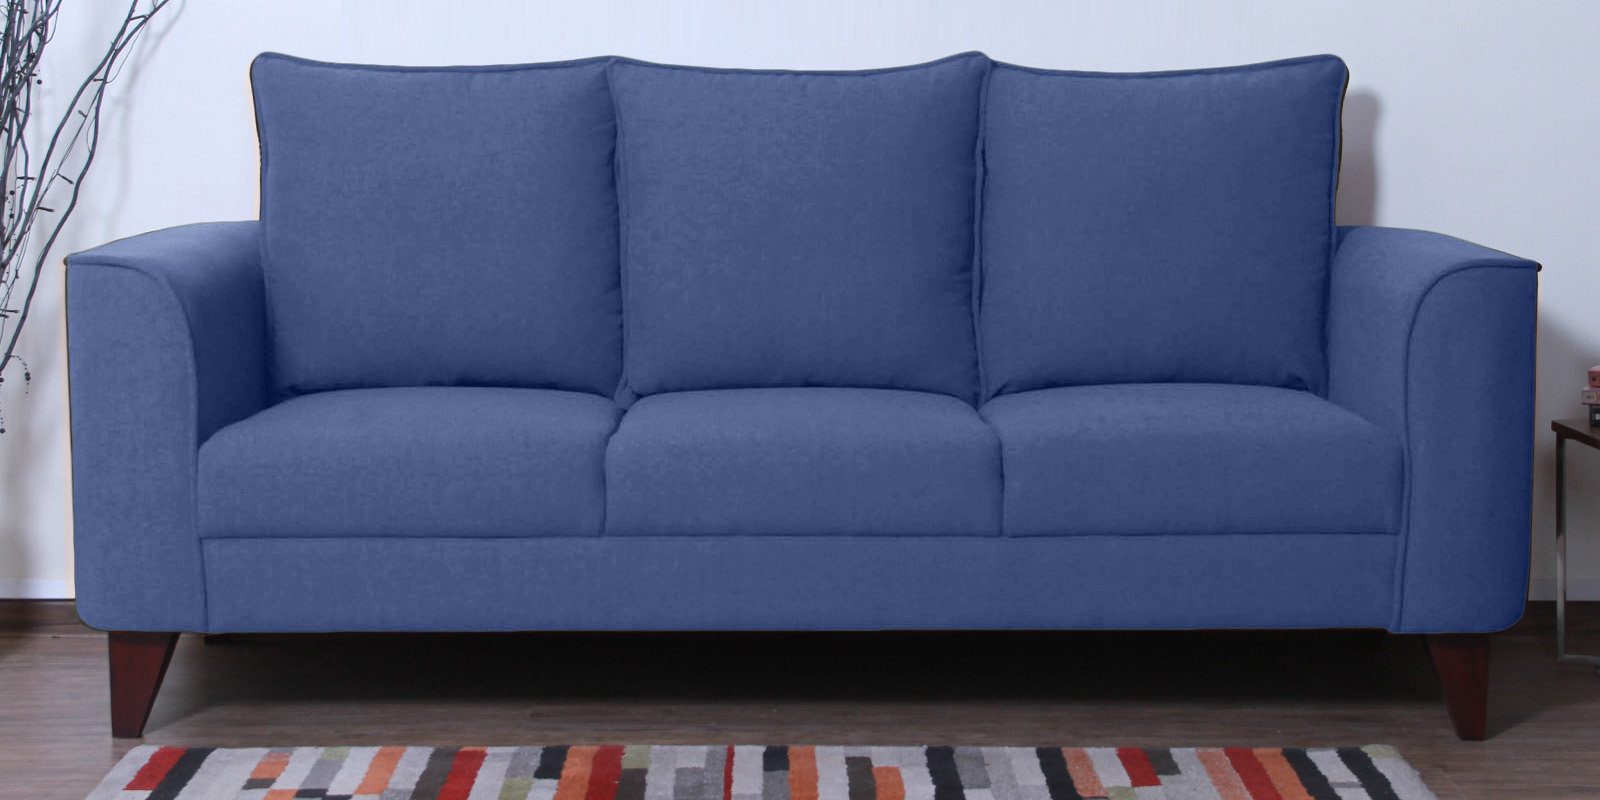Lara Three Seater Sofa in Denim Blue Colour by CasaCraft: (62, 49, 1543, 741)
